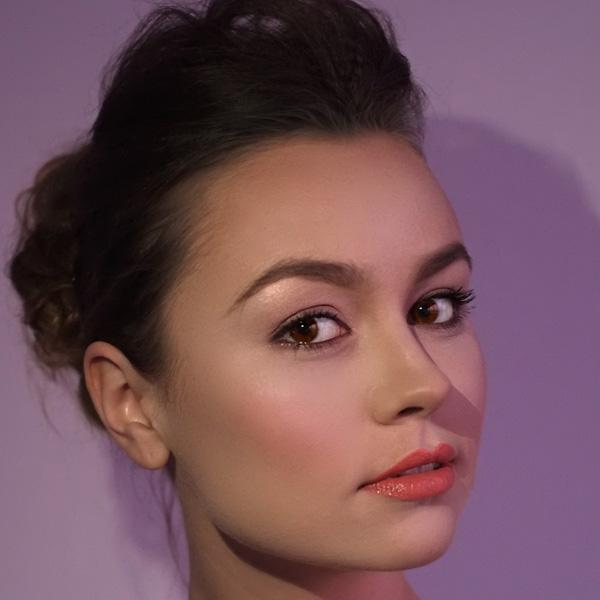Eyes: (262, 299, 358, 362), (398, 284, 472, 340)
